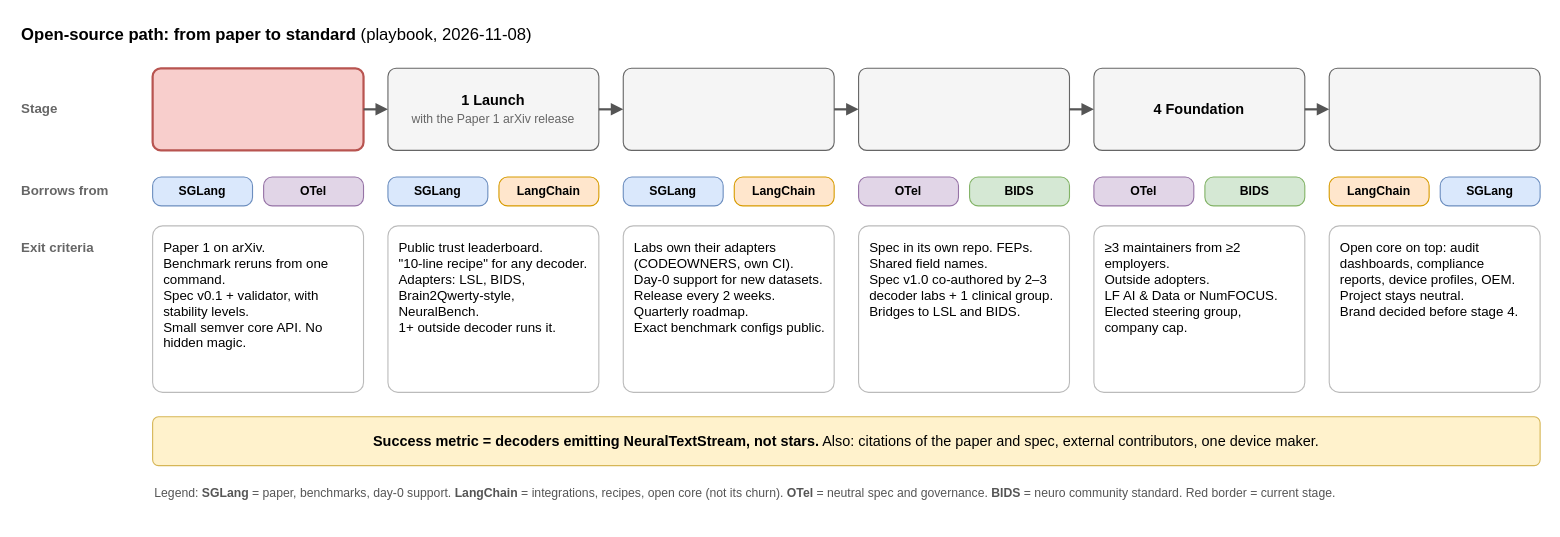
The diagram is 1560 pixels wide and 537 high, and some of its shapes have lost their labels. Each missing label, with the centre of its shape:
0 Credibility core now → Paper 1: (x=257, y=109)
2 Community engine: (x=728, y=108)
3 Standard: (x=963, y=108)
5 Company: (x=1434, y=108)
